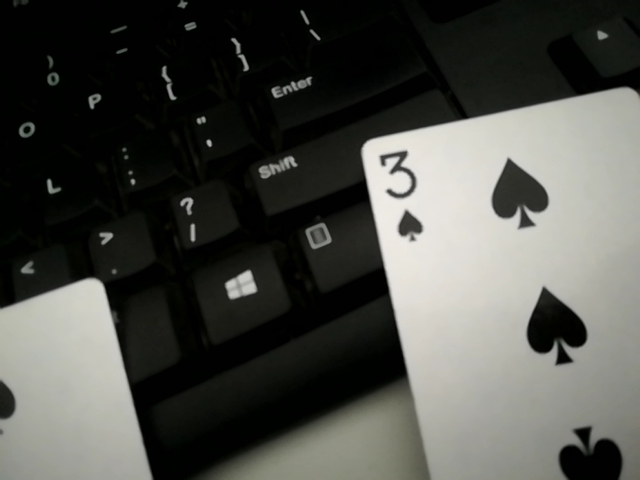ht 3: (362, 69, 640, 472)
